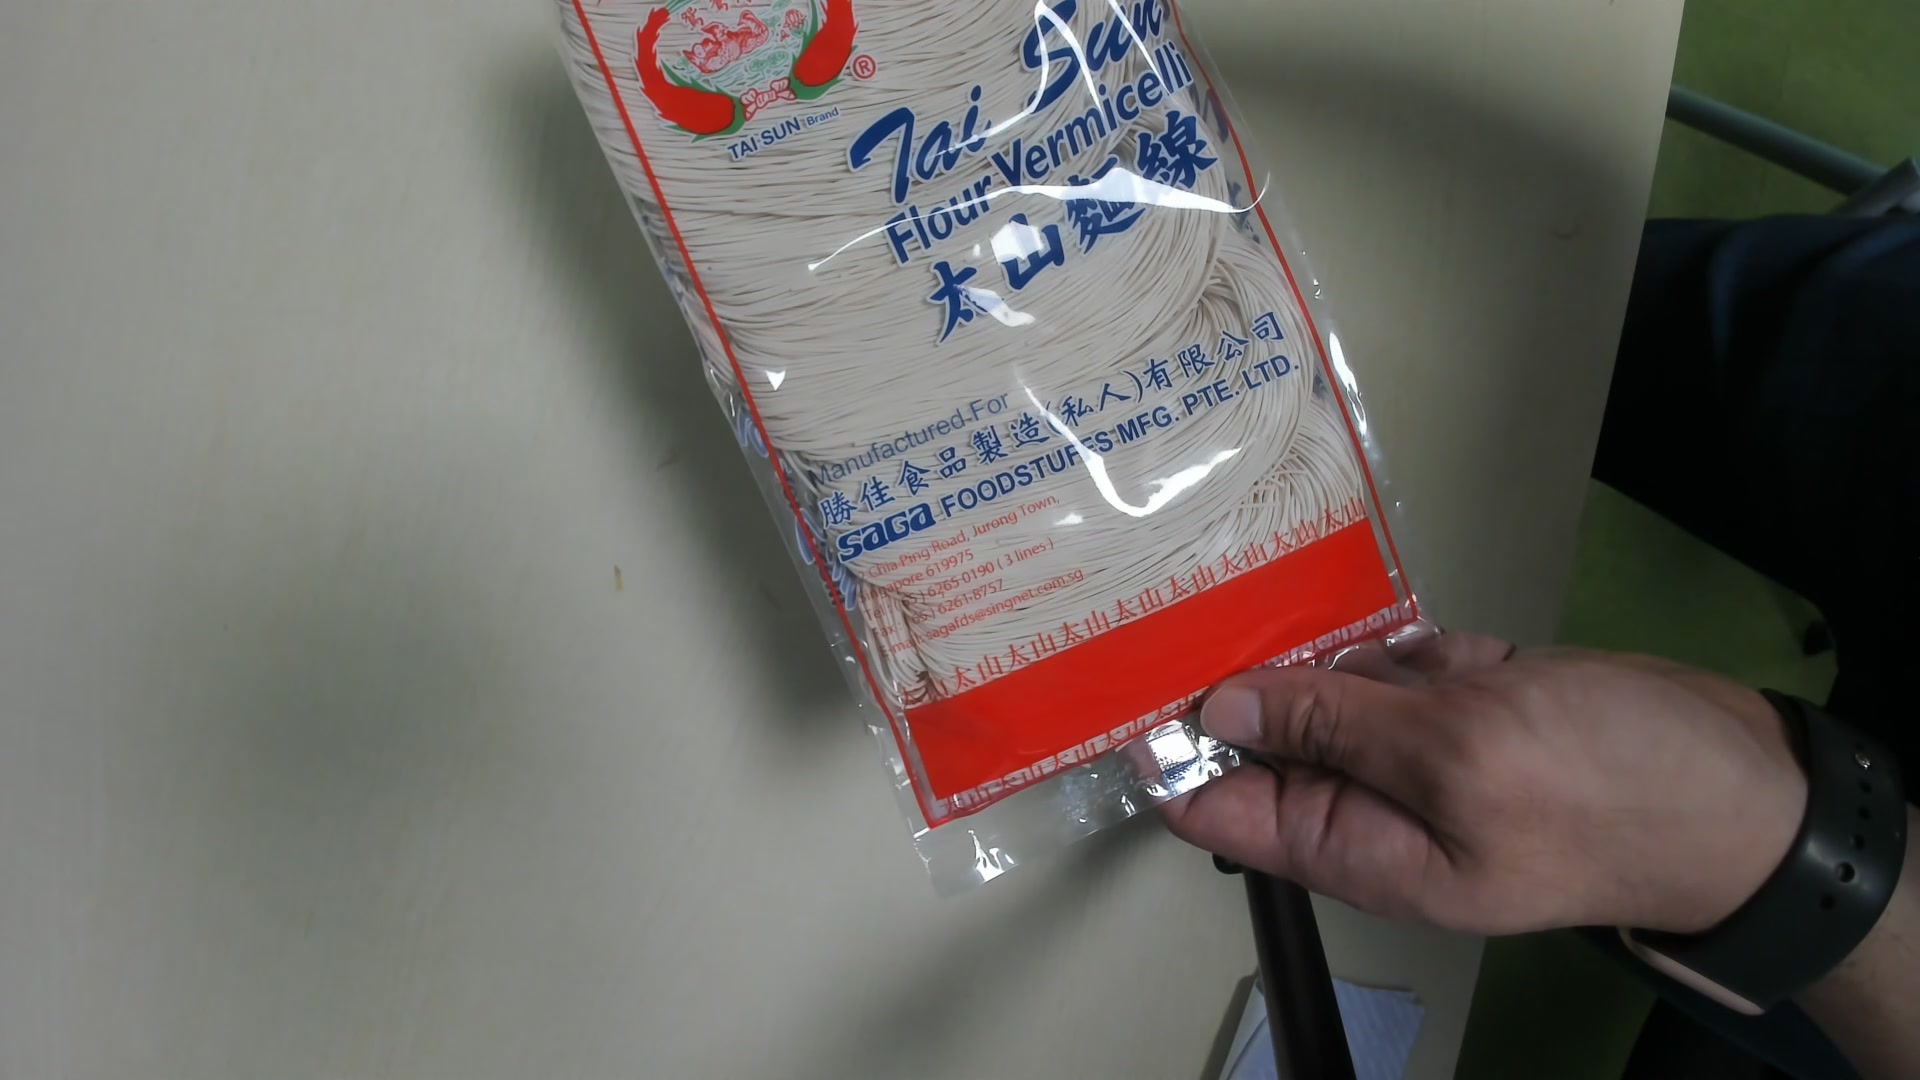BeeHoonVermicelli_300-399g_Halal_NonHealthy: (562, 15, 1433, 873)
